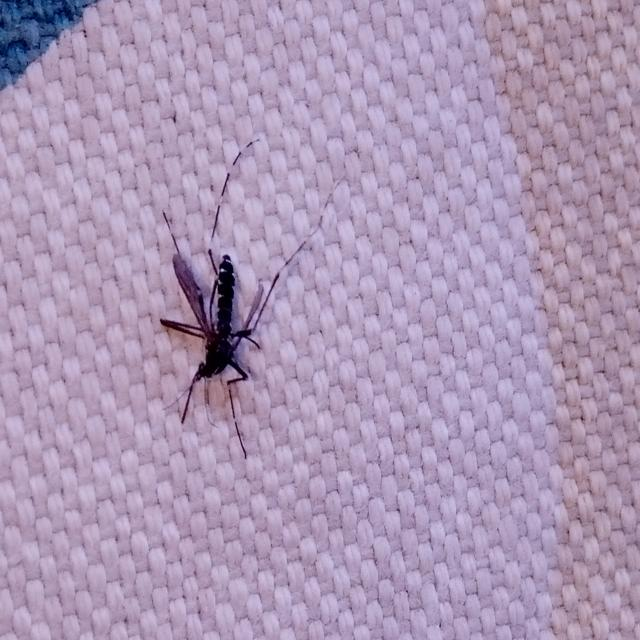albopictus: (148, 129, 312, 461)
